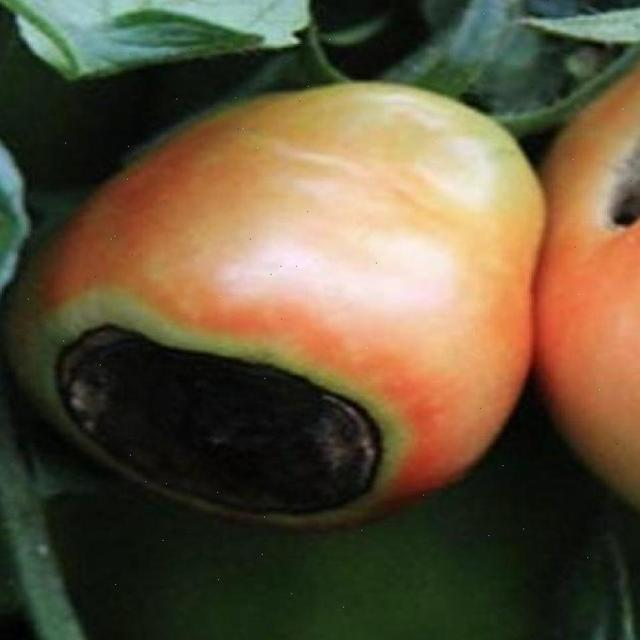Blossom End Rot Fruit: (32, 69, 411, 278)
